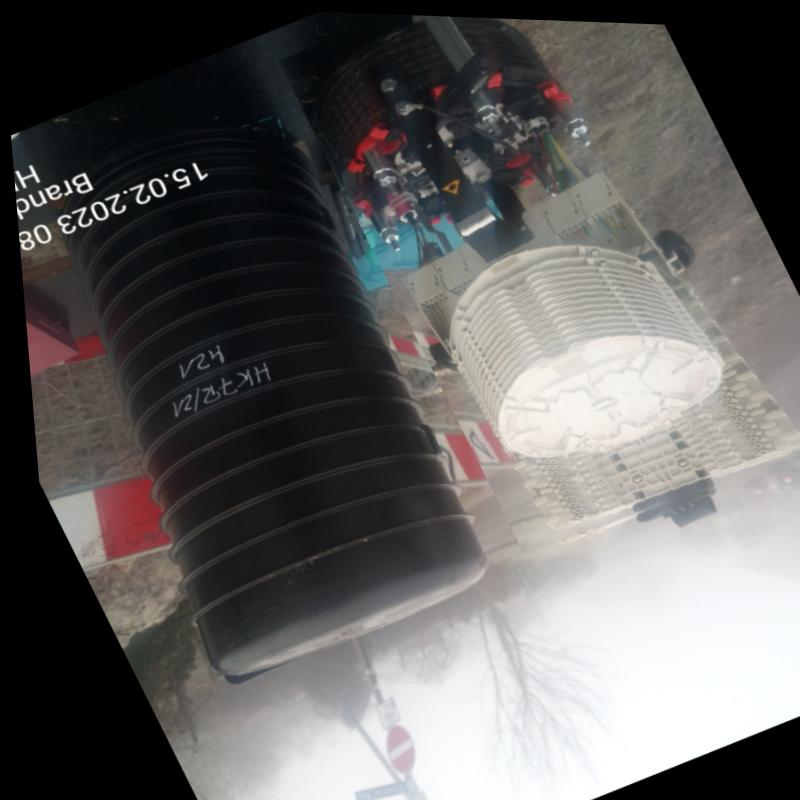NT-Muffen: (297, 11, 799, 540)
